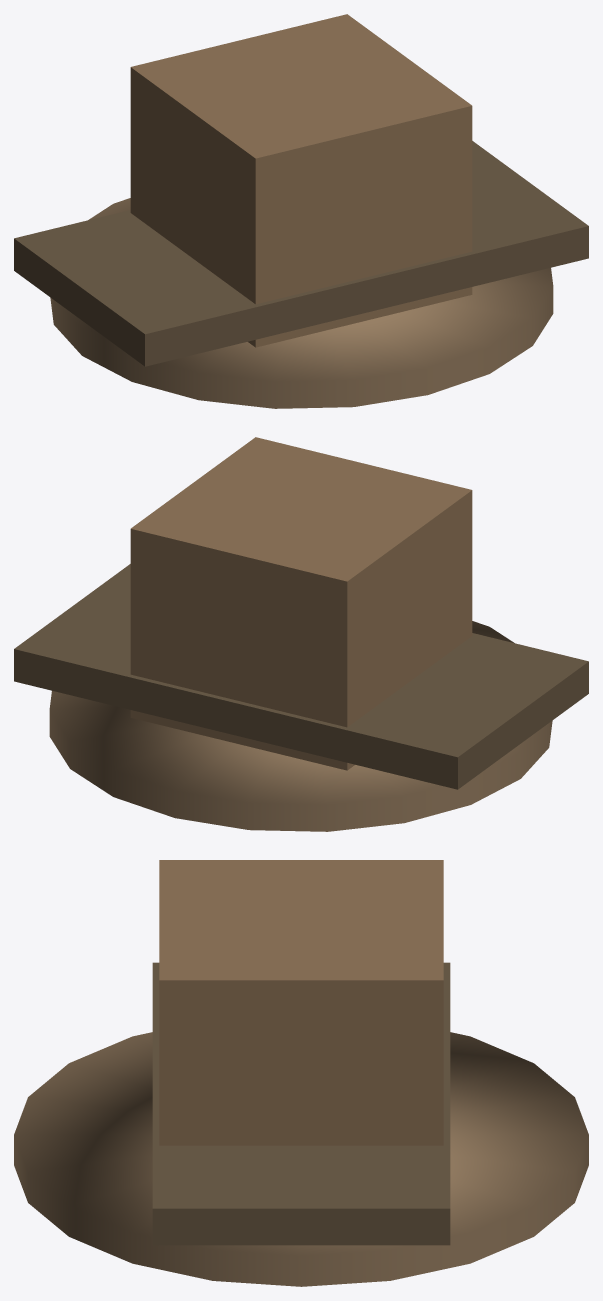
File: equip-hat.glb
The picture shows the model from 3 angles, top to bottom: view 1: azimuth 30°, elevation 25°; view 2: azimuth 150°, elevation 25°; view 3: azimuth 270°, elevation 25°; orthographic projection. The views are drawn at different scales.
Visible parts, largest first — view 1: equip_hat; view 2: equip_hat; view 3: equip_hat.
Boxes of the visible parts, x1,y1,x2,y2 form: equip_hat: (14,14,588,408); equip_hat: (14,437,588,831); equip_hat: (14,860,588,1286).
Size of the model in its own units: 1.72 by 0.8 by 1.7.
